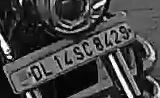1: (53, 57, 65, 70)
2: (111, 31, 121, 44)
4: (63, 50, 75, 65), (103, 33, 115, 46)
8: (94, 37, 104, 52)
9: (119, 26, 129, 39)
C: (82, 41, 93, 57)
D: (30, 66, 42, 83)
L: (40, 61, 54, 77)
S: (73, 47, 85, 60)
